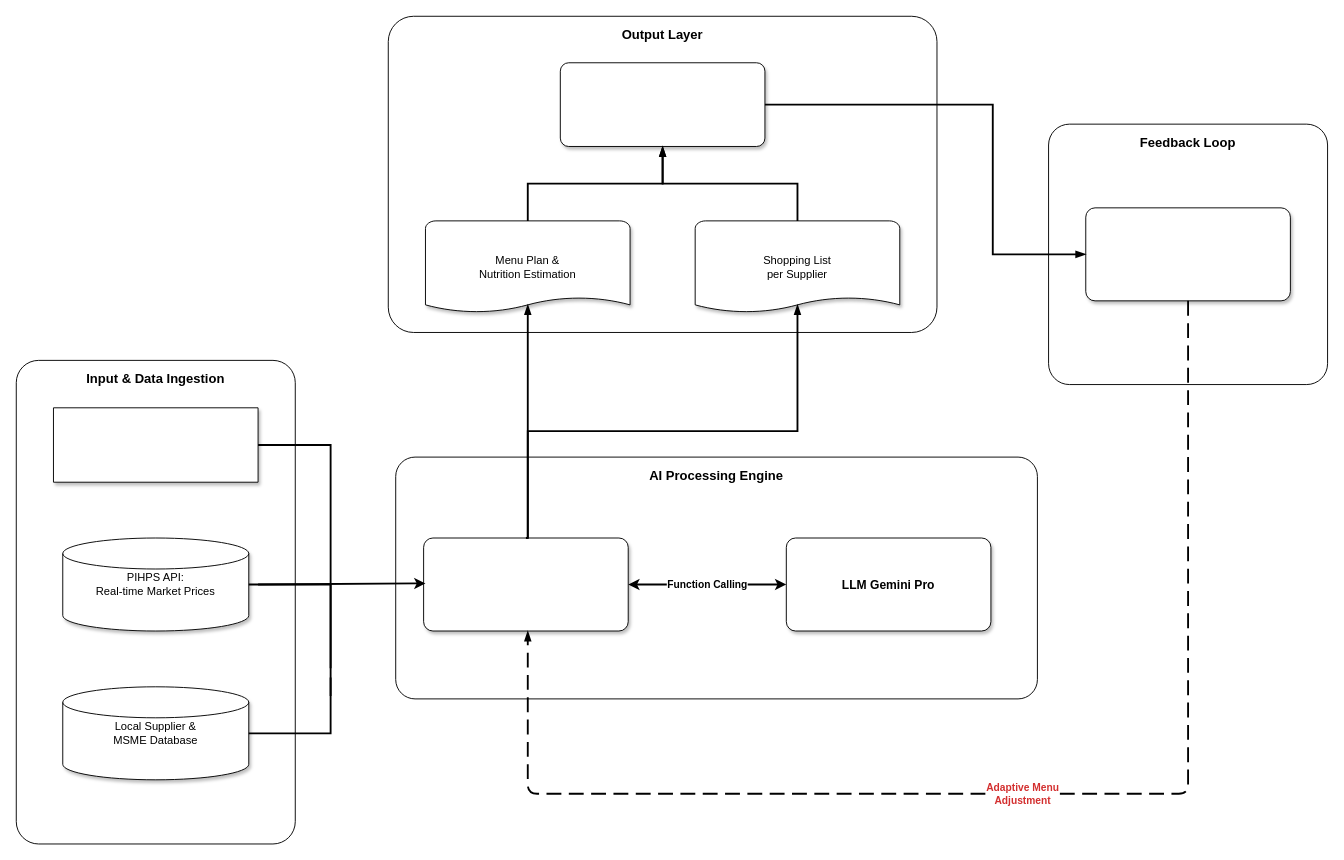
Image size: 1344x860. Some labels were removed from this diagram. The centre of each missing label's shape, as x and y in pixels:
AI CSP Optimizer: OR-Tools: point 526,585
Smart Waste Tracker & Evaluation: point 1188,255
SPPG Dashboard: point 663,105
SPPG Manager: Input Budget & Portions: point 156,446
